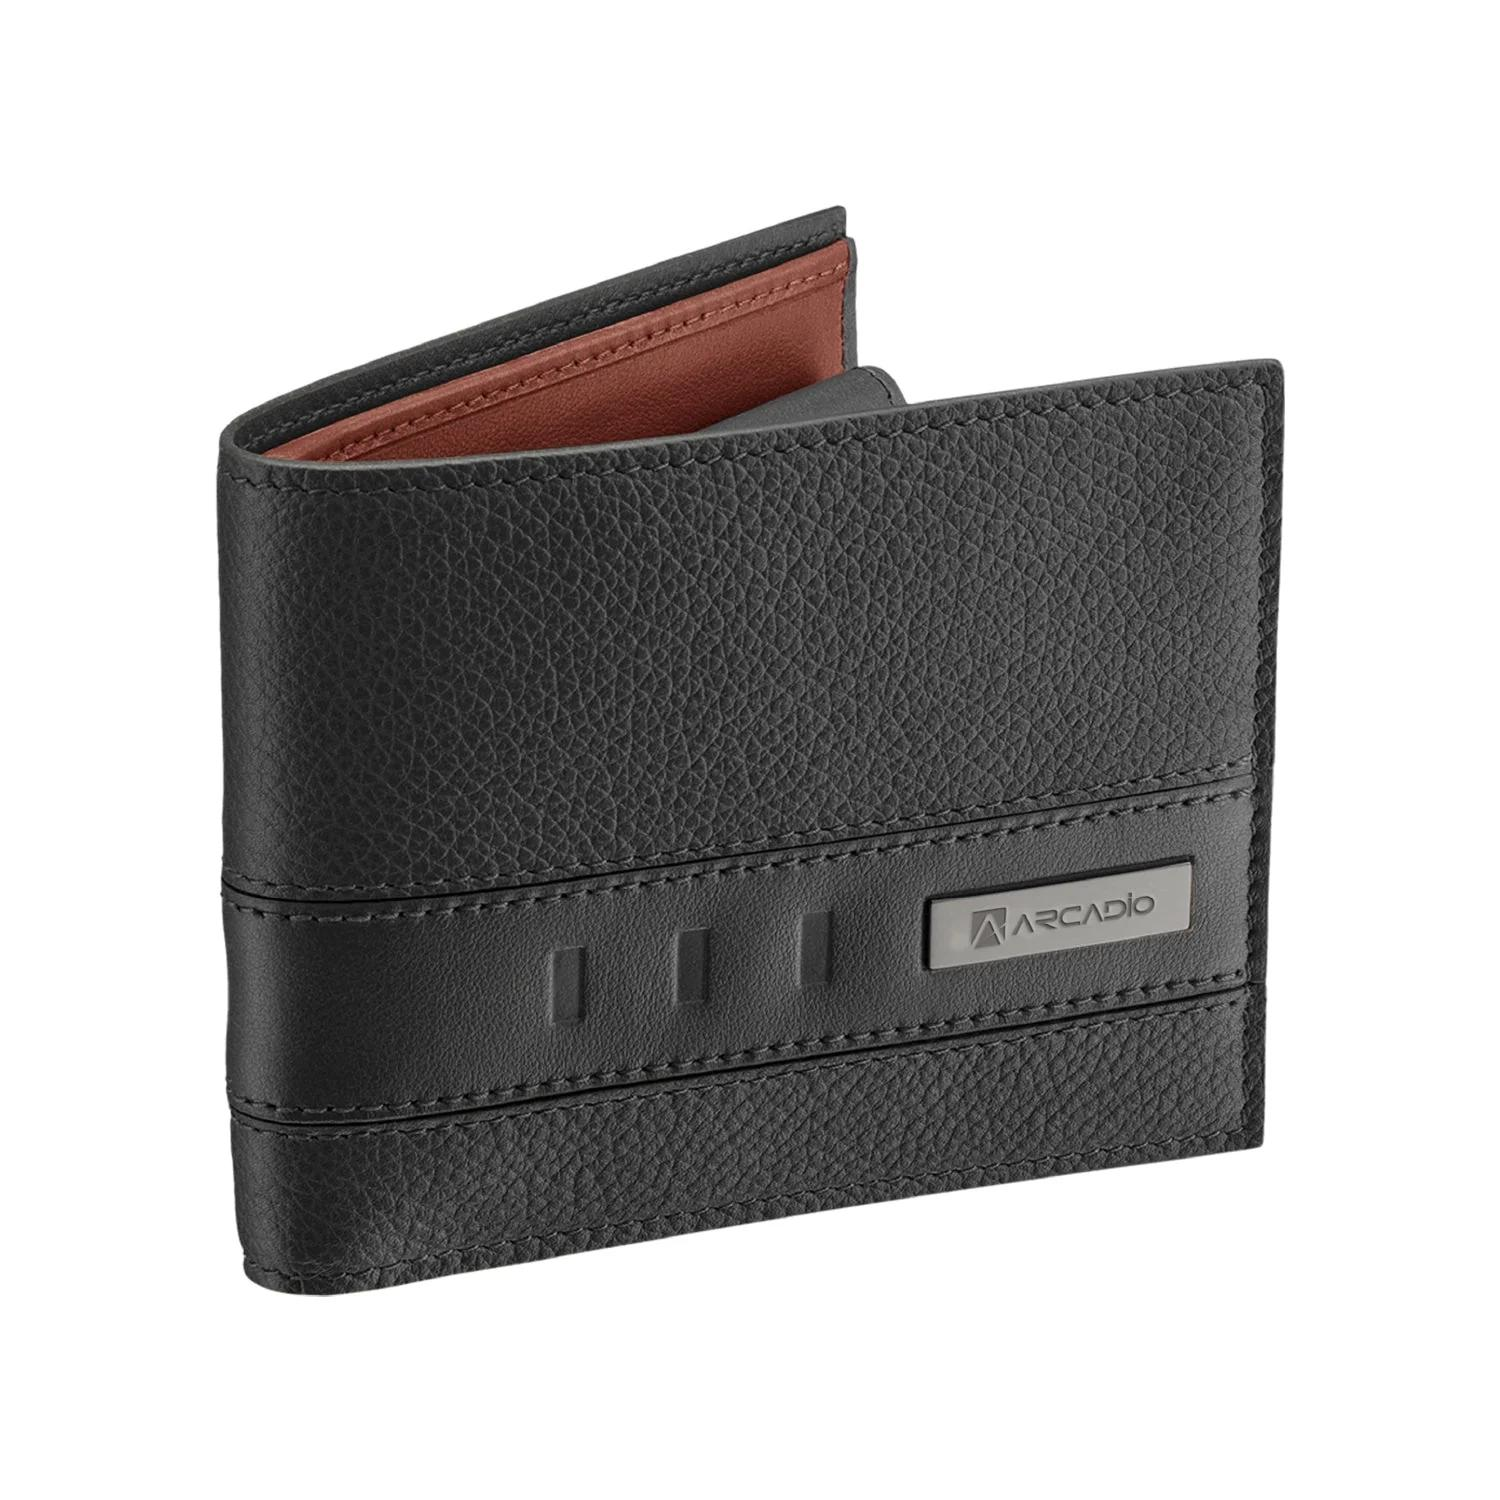Wallet: (207, 210, 1295, 1299)
